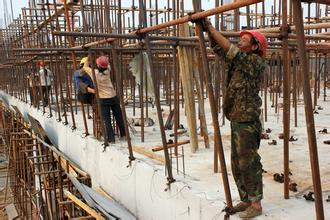boots: (239, 201, 262, 217), (227, 201, 249, 212)
hard-hat: (240, 29, 267, 58), (95, 56, 108, 69), (78, 57, 87, 68), (35, 59, 44, 68), (79, 57, 87, 63)
person: (193, 11, 269, 217), (81, 54, 127, 144), (73, 57, 96, 118), (33, 59, 53, 106)
ppe-suit: (214, 46, 265, 201)
